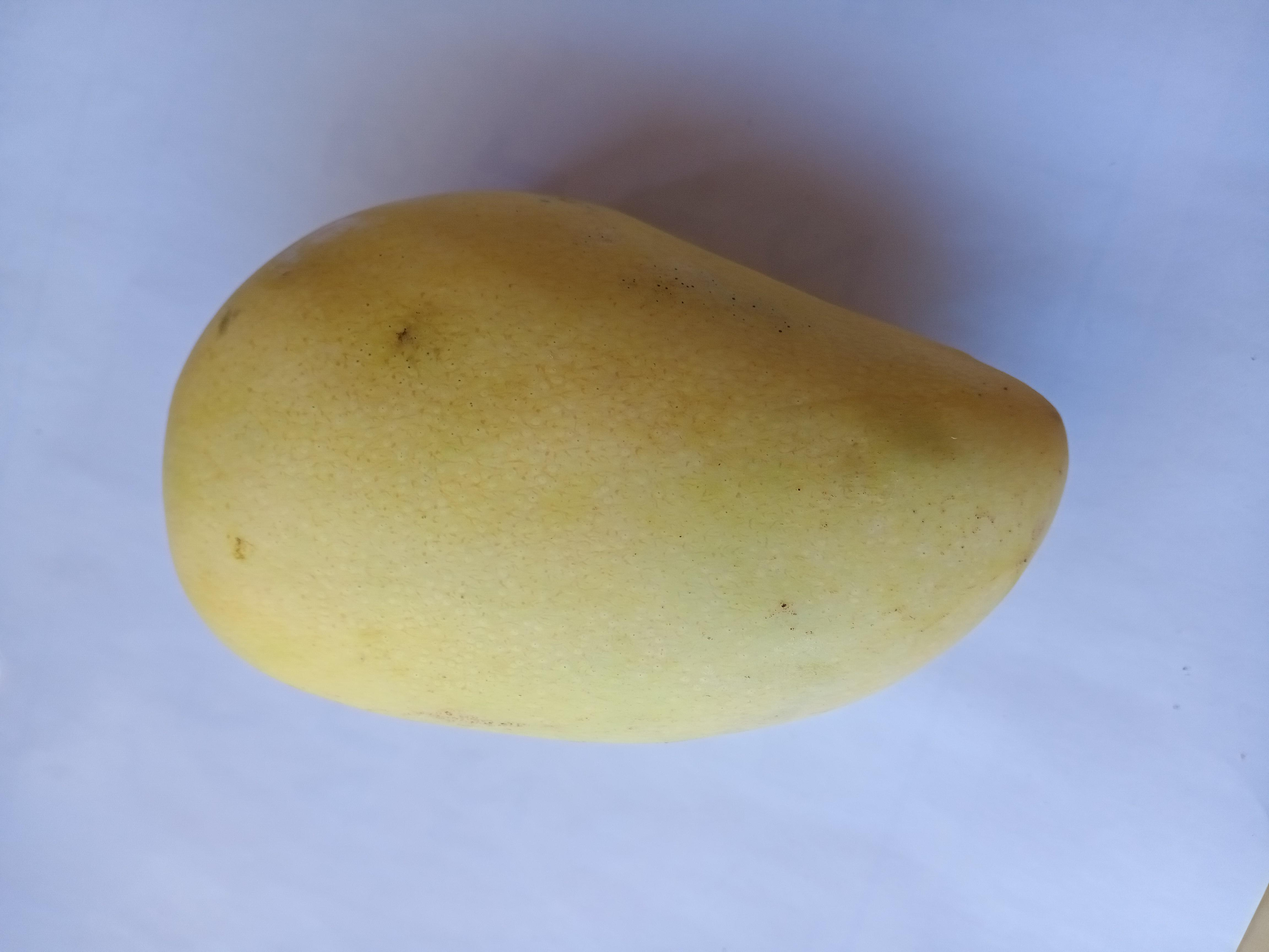Mango Ripe: (91, 162, 1126, 785)
